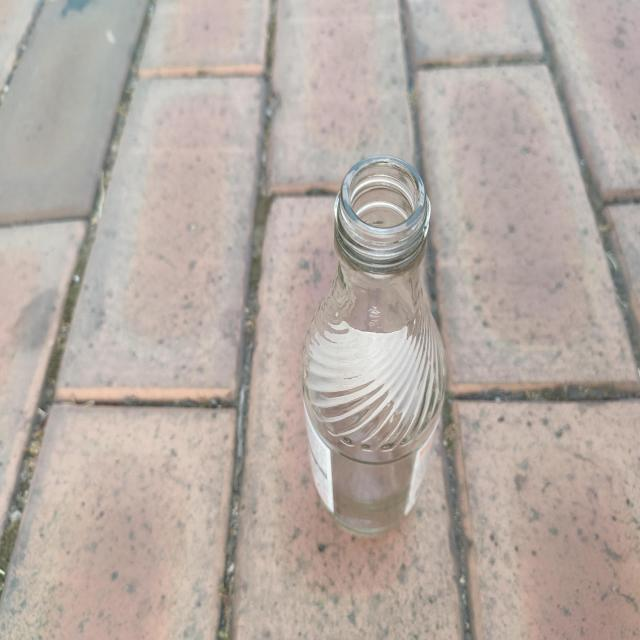glass: (303, 155, 446, 534)
